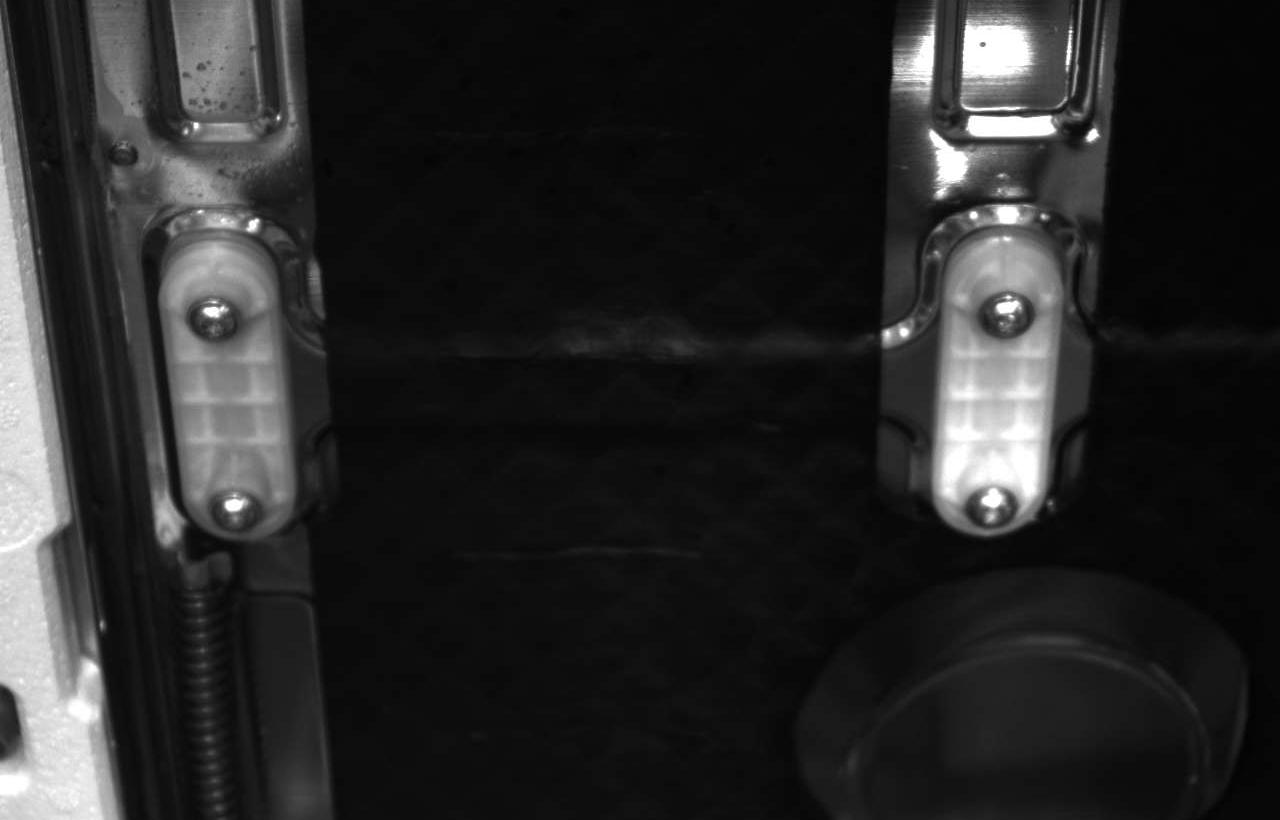vida-ok: (177, 287, 249, 354), (981, 282, 1049, 349), (959, 472, 1024, 541), (203, 481, 269, 539)
